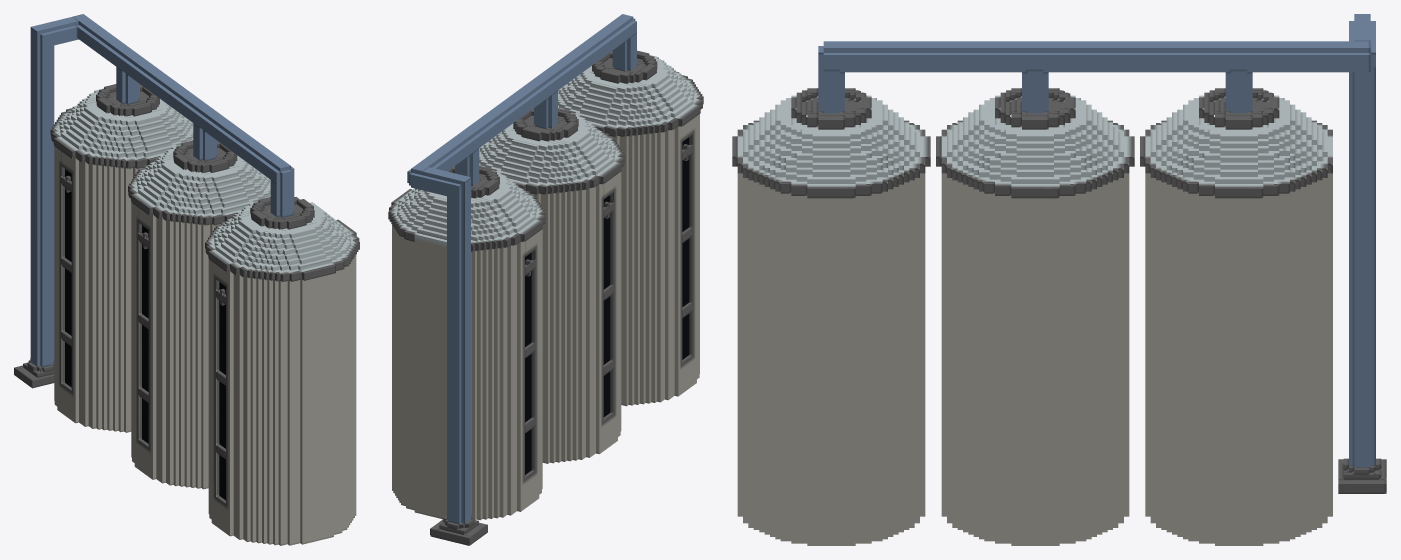
File: 3_silo_bez_cieczy.dae
3 renders of one model, left to right at view 1: azimuth 30°, elevation 25°; view 2: azimuth 150°, elevation 25°; view 3: azimuth 270°, elevation 25°, orthographic. The views are drawn at different scales.
Parts seen in each view (by area): view 1: Content; view 2: Content; view 3: Content.
Boxes of the visible parts, bbox=[...] form: Content: bbox=[14, 14, 359, 545]; Content: bbox=[388, 14, 703, 545]; Content: bbox=[732, 14, 1386, 545].
Size of the model in its own units: 37 by 95 by 122.
Materials: 1 (1 with a texture image).
